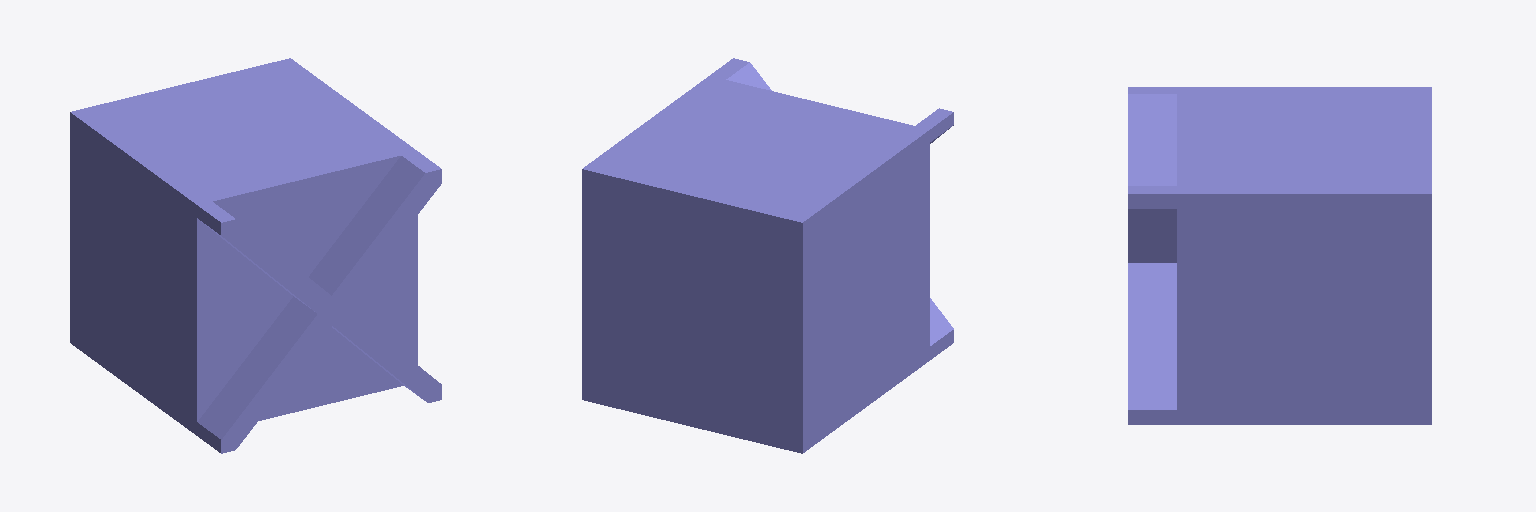
The model's file is exitModel.obj.
The picture shows the model from 3 angles: view 1: azimuth 30°, elevation 25°; view 2: azimuth 150°, elevation 25°; view 3: azimuth 270°, elevation 25°; orthographic projection.
Parts seen in each view (by area): view 1: Box001; view 2: Box001; view 3: Box001.
Boxes of the visible parts, x1=… form: Box001: x1=70, y1=58, x2=441, y2=453; Box001: x1=582, y1=58, x2=953, y2=453; Box001: x1=1128, y1=87, x2=1431, y2=424.
Size of the model in its own units: 10 by 10 by 11.9.